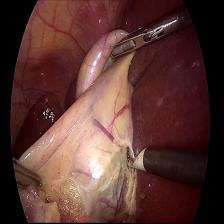Grasper: (106, 10, 180, 70), (12, 153, 42, 198)
Hook: (123, 142, 148, 180)
